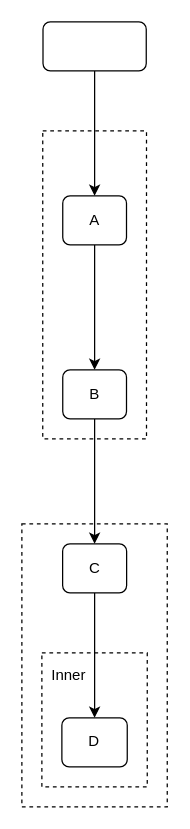
Image size: 190x829. Some labels were removed from this diagram. The shapes that lost their labels are listed below. From the top down, each one's box as (x1, y1, x2, y2) in pixels, then its label:
(42, 21, 146, 71): Entry
(42, 130, 146, 439): Left Side
